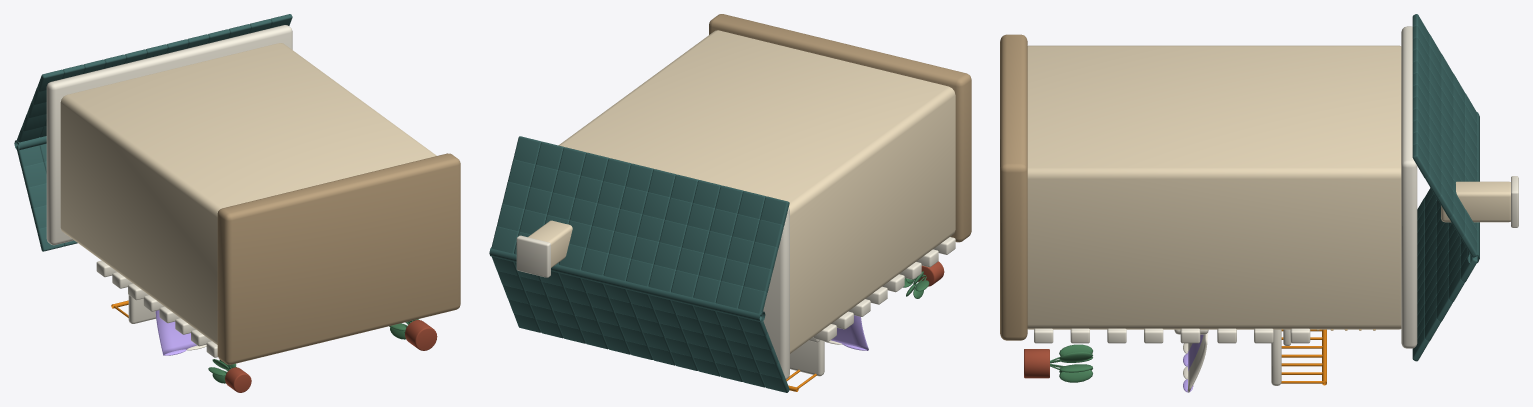
Rendered from BoulevardFacade2.fbx.
3 views of the same model, side by side, from view 1: azimuth 30°, elevation 25°; view 2: azimuth 150°, elevation 25°; view 3: azimuth 270°, elevation 25° (orthographic). The views are drawn at different scales.
Parts seen in each view (by area): view 1: BoulevardFacade2; view 2: BoulevardFacade2; view 3: BoulevardFacade2.
Boxes of the visible parts, box(x1,y1,x2,y2) form: BoulevardFacade2: box(14, 14, 460, 392); BoulevardFacade2: box(489, 14, 971, 392); BoulevardFacade2: box(1000, 14, 1518, 392).
Size of the model in its own units: 2.94 by 2.42 by 4.52.
